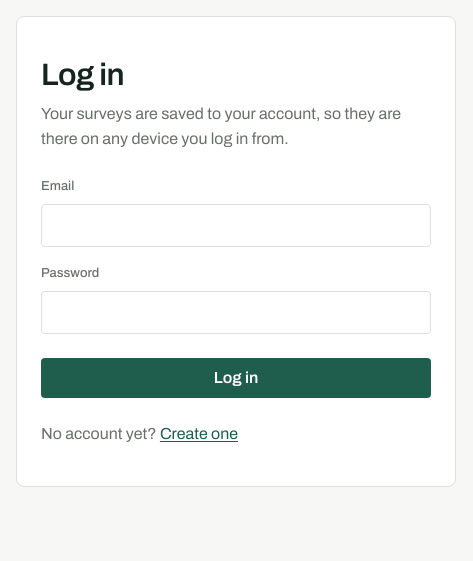
Test: the account pages › clears a fixed field once it is left, never while typing
Click the button "Log in" at (236, 378), box [41,358,431,398]
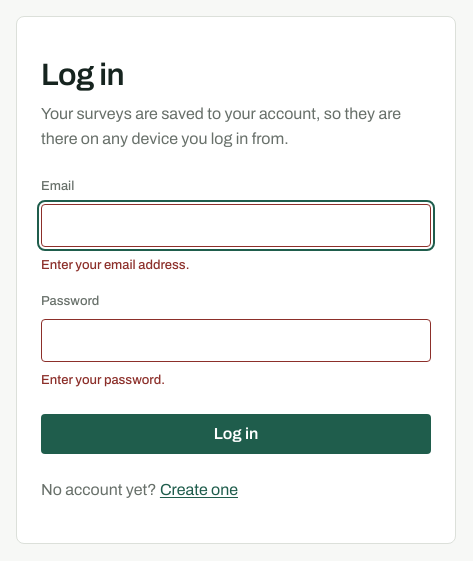
Type "rahma@example.com" into the field labelled "Email" at (236, 225), box [41,204,431,247]
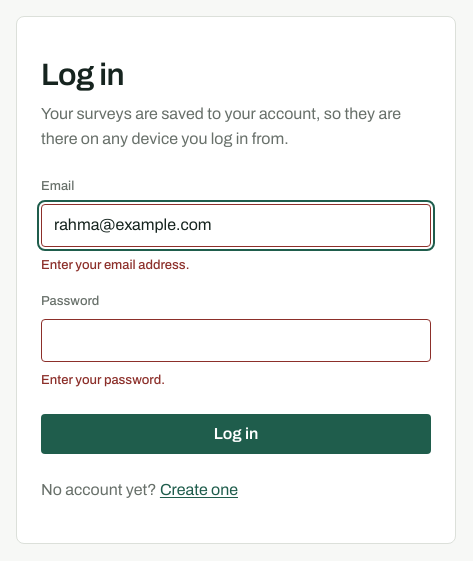
Check: the text "Enter your email address." is shown, box [41,258,189,272]
Leave the field labelled "Email", box [41,204,431,247]
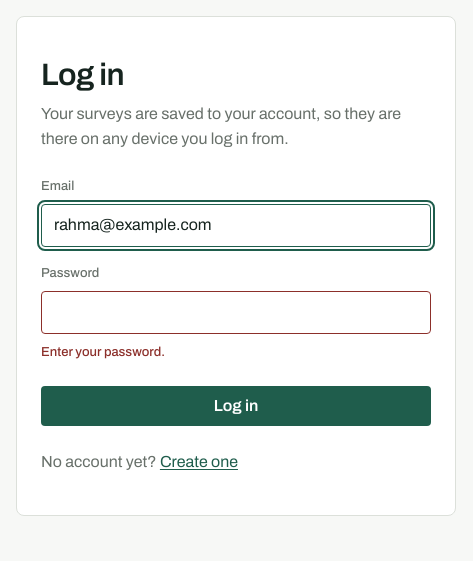
Check: the text "Enter your password." is shown, box [41,345,165,359]
Check: the text with id "error-email" is gone
